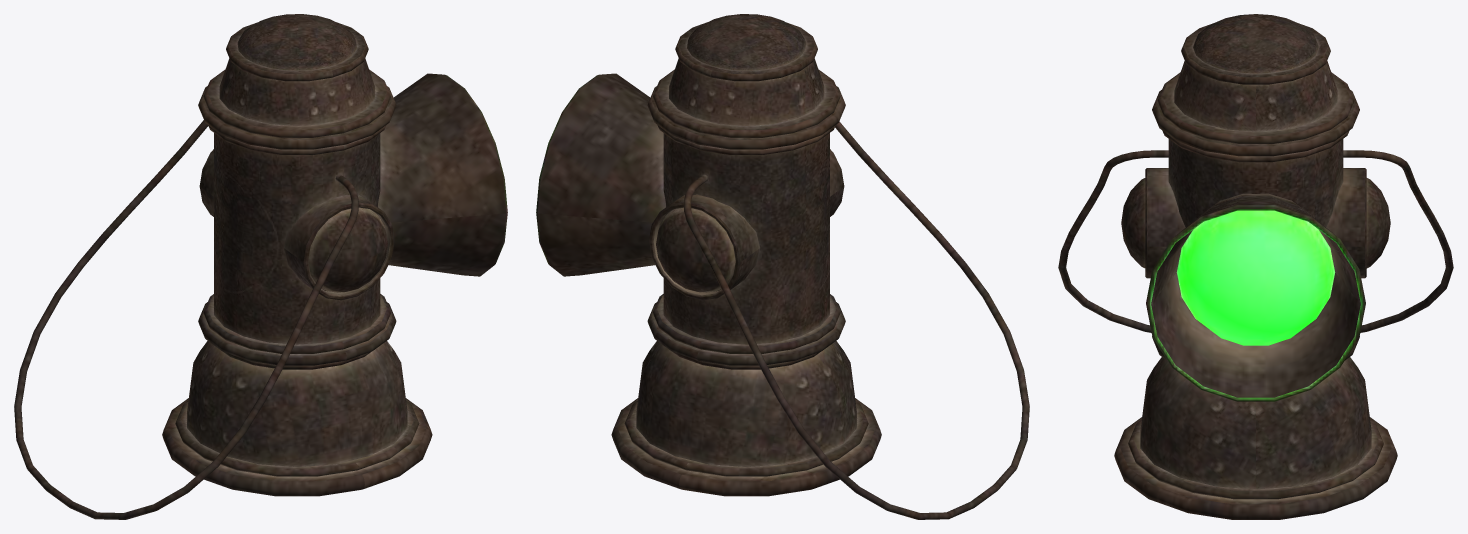
File: item.light.brass_lantern.glb
3 views of the same model, side by side, from view 1: azimuth 30°, elevation 25°; view 2: azimuth 150°, elevation 25°; view 3: azimuth 270°, elevation 25° (orthographic). The views are drawn at different scales.
Parts seen in each view (by area): view 1: Cylinder002; view 2: Cylinder002; view 3: Cylinder002.
Boxes of the visible parts, bbox=[...] form: Cylinder002: bbox=[14, 14, 507, 519]; Cylinder002: bbox=[536, 14, 1029, 519]; Cylinder002: bbox=[1058, 14, 1453, 519].
Size of the model in its own units: 1.2 by 1.2 by 0.9801.
1 material, 1 textured.
